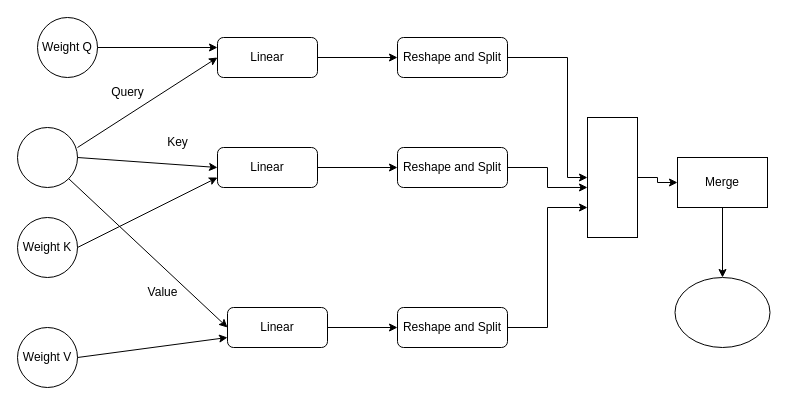
The diagram is 788 pixels wide and 405 high, and some of its shapes have lost their labels. Each missing label, with the box of its shape:
Attention Score: (586, 116, 638, 238)
Input: (16, 126, 78, 188)
Output: (674, 276, 770, 348)
